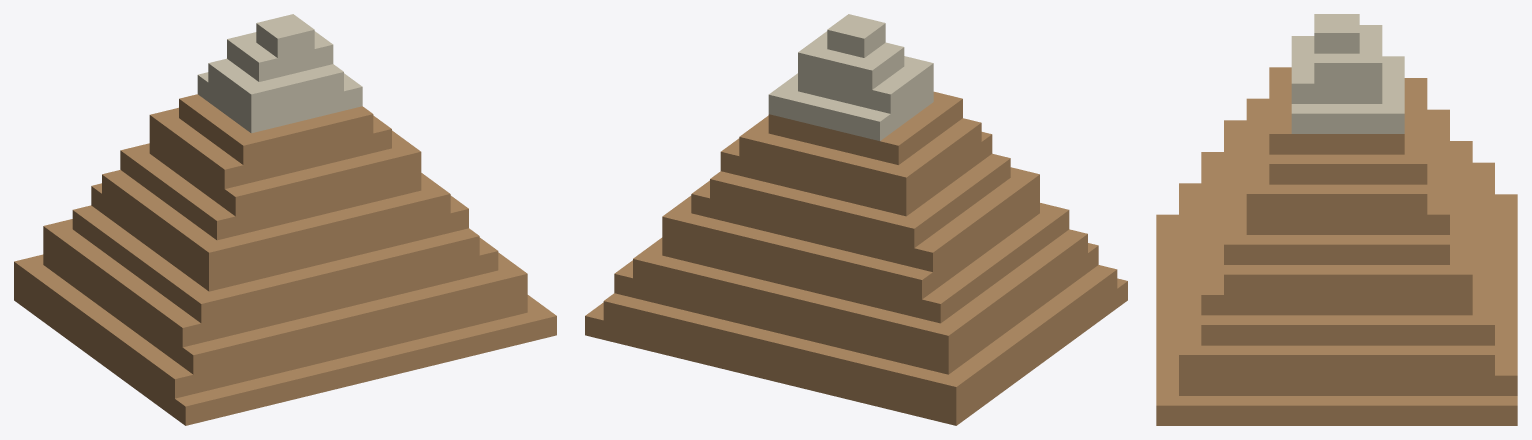
The model's file is marketing-19.glb.
The picture shows the model from 3 angles, left to right: view 1: azimuth 30°, elevation 25°; view 2: azimuth 150°, elevation 25°; view 3: azimuth 270°, elevation 25°; orthographic projection. The views are drawn at different scales.
Visible parts, largest first — view 1: Brand sculpture; view 2: Brand sculpture; view 3: Brand sculpture.
Boxes of the visible parts, x1=… form: Brand sculpture: x1=14, y1=14, x2=556, y2=425; Brand sculpture: x1=585, y1=14, x2=1127, y2=425; Brand sculpture: x1=1156, y1=14, x2=1517, y2=425.
Bounding box in the file's own units: 1.6 × 1.2 × 1.28.
